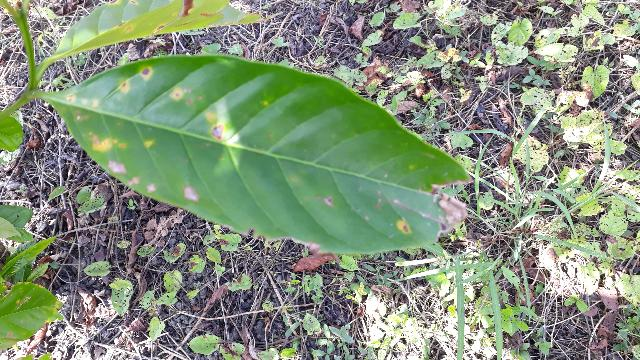rust_level_2: (160, 100, 597, 311)
